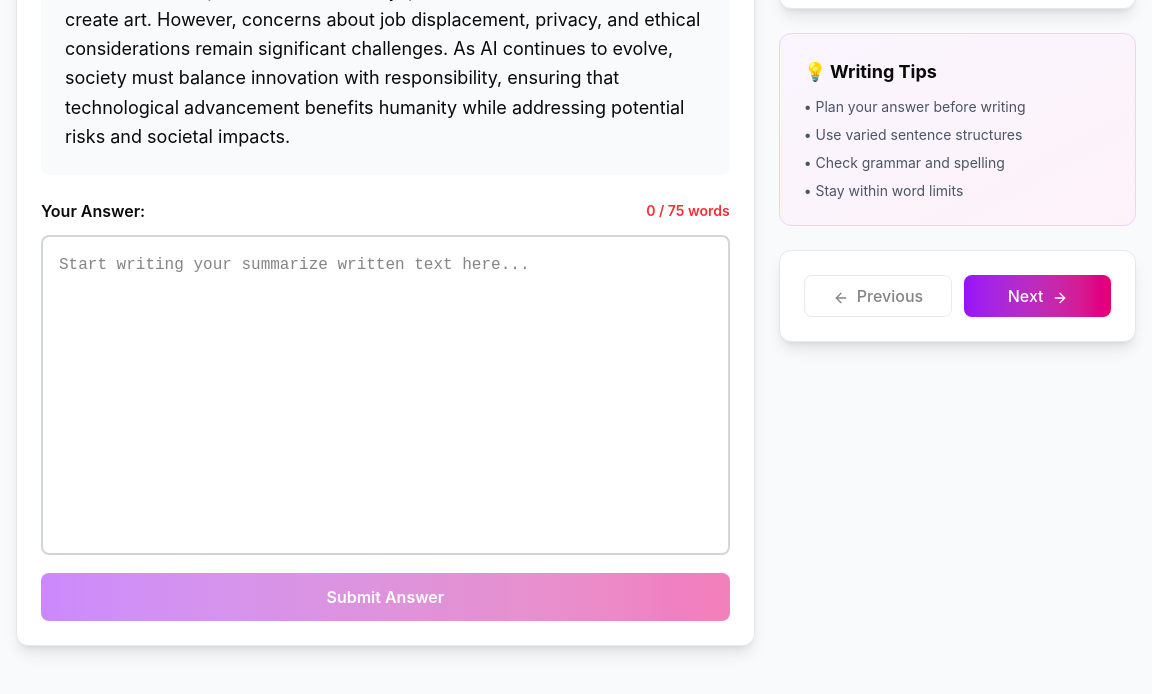
Test case: WritingPractice › toasts success when valid answer is submitted and renders AI feedback after delay
(page scrolled)
Step 1. Type "AI has transformed numerous industries with great potential." into the text box with placeholder "Start writing your summarize written text here..." → {"x": 385, "y": 395}, box [41,235,730,555]
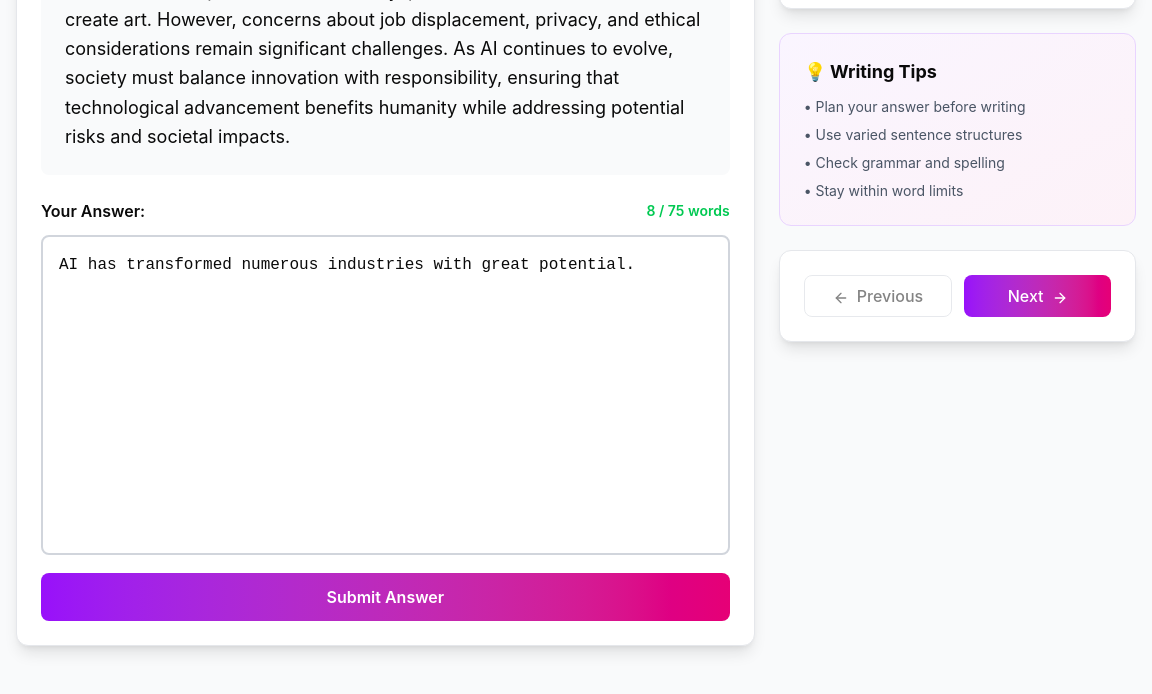
Step 2. Click the button "Submit Answer" → {"x": 385, "y": 597}, box [41,573,730,621]
Wait 2000 ms
(page scrolled)
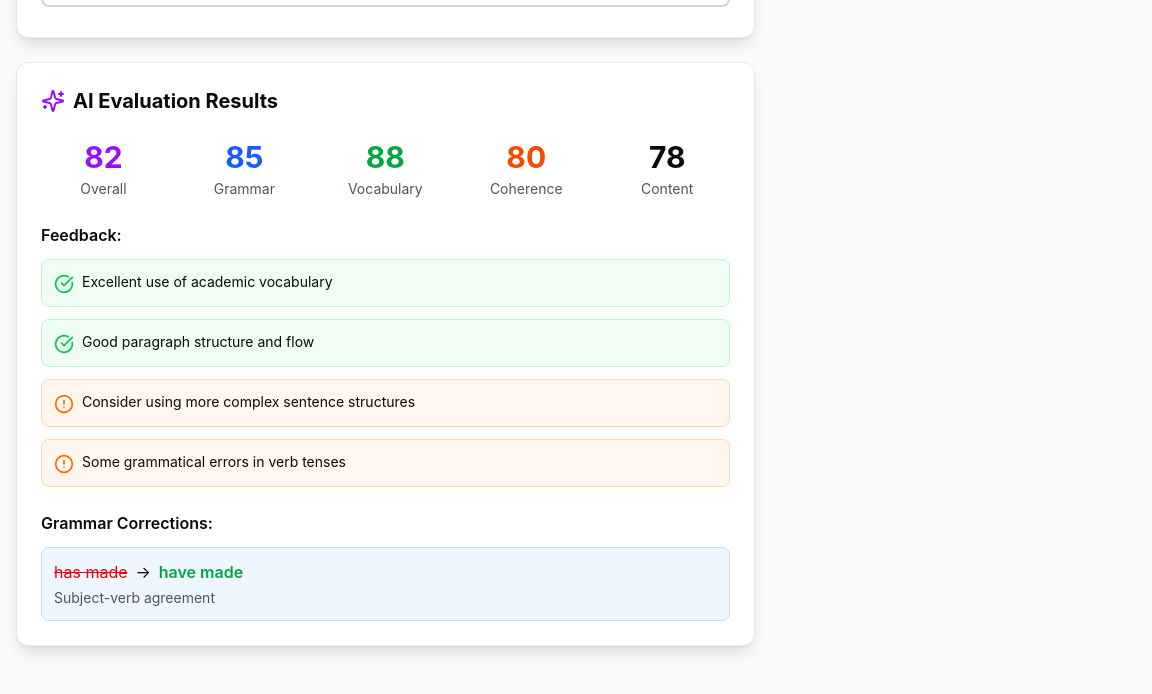
expect the heading "AI Evaluation Results" is shown: met, box [73,87,278,115]
expect the text "Overall" is shown: met, box [80,180,127,197]
expect the heading "Grammar Corrections:" is shown: met, box [41,513,213,533]
